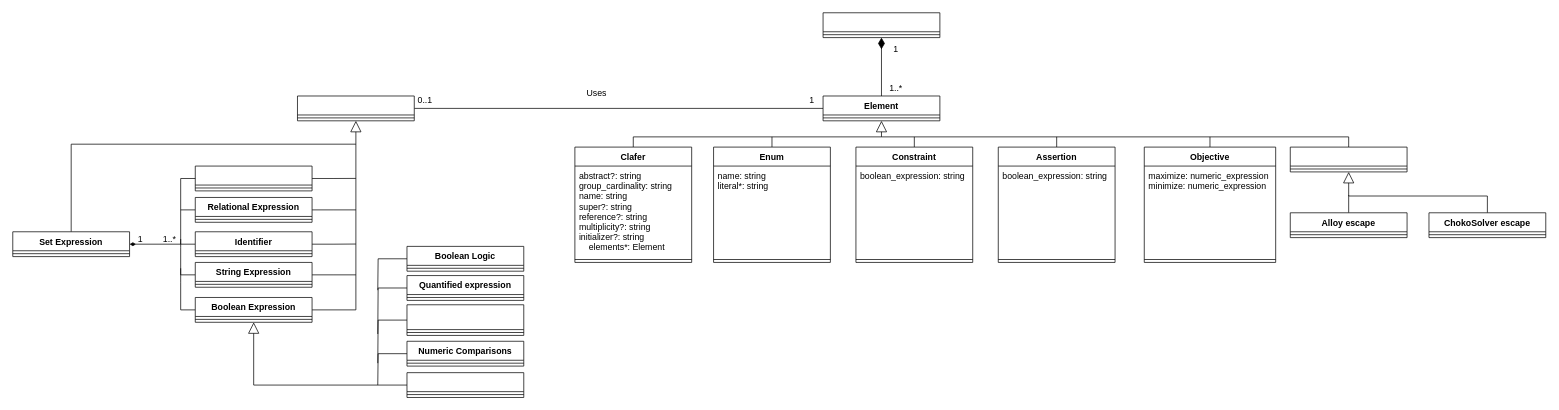
Some shapes in this 1559 by 410 pixel diagram are drawn without their labels. The centre of each missing label's shape, as x and y in pixels:
Escape: [1348,159]
Expression: [355,108]
Model: [881,25]
Numeric Expression: [253,178]
Overloaded Comparisons: [465,384]
Quantified with local declarations: [465,319]
